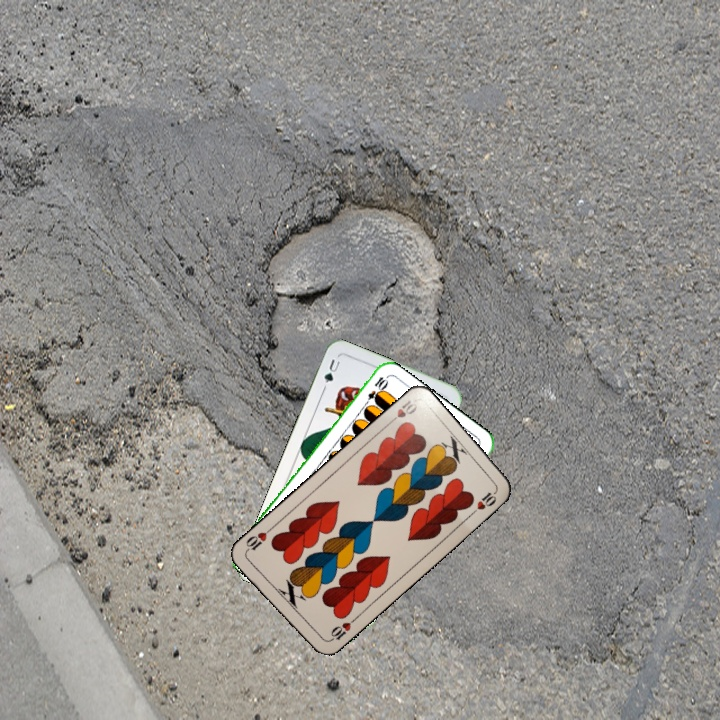E10: (359, 372, 389, 409)
GU: (320, 355, 342, 386)
H10: (384, 395, 421, 427), (325, 614, 358, 644)
